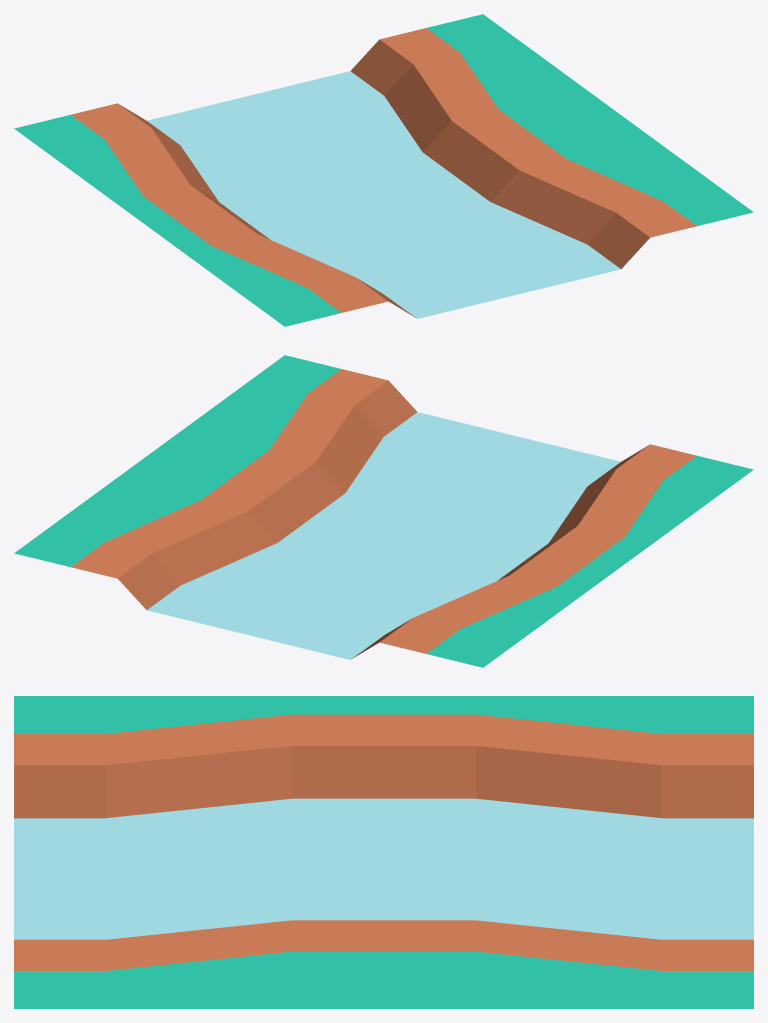
The model's file is ground_riverStraight.dae.
3 renders of one model, top to bottom at view 1: azimuth 30°, elevation 25°; view 2: azimuth 150°, elevation 25°; view 3: azimuth 270°, elevation 25°, orthographic. The views are drawn at different scales.
Visible parts, largest first — view 1: ground_riverStraight; view 2: ground_riverStraight; view 3: ground_riverStraight.
Boxes of the visible parts, <box> form: ground_riverStraight: <box>14,14,753,326</box>; ground_riverStraight: <box>14,355,753,667</box>; ground_riverStraight: <box>14,696,753,1008</box>.
Size of the model in its own units: 1 by 0.05 by 1.
